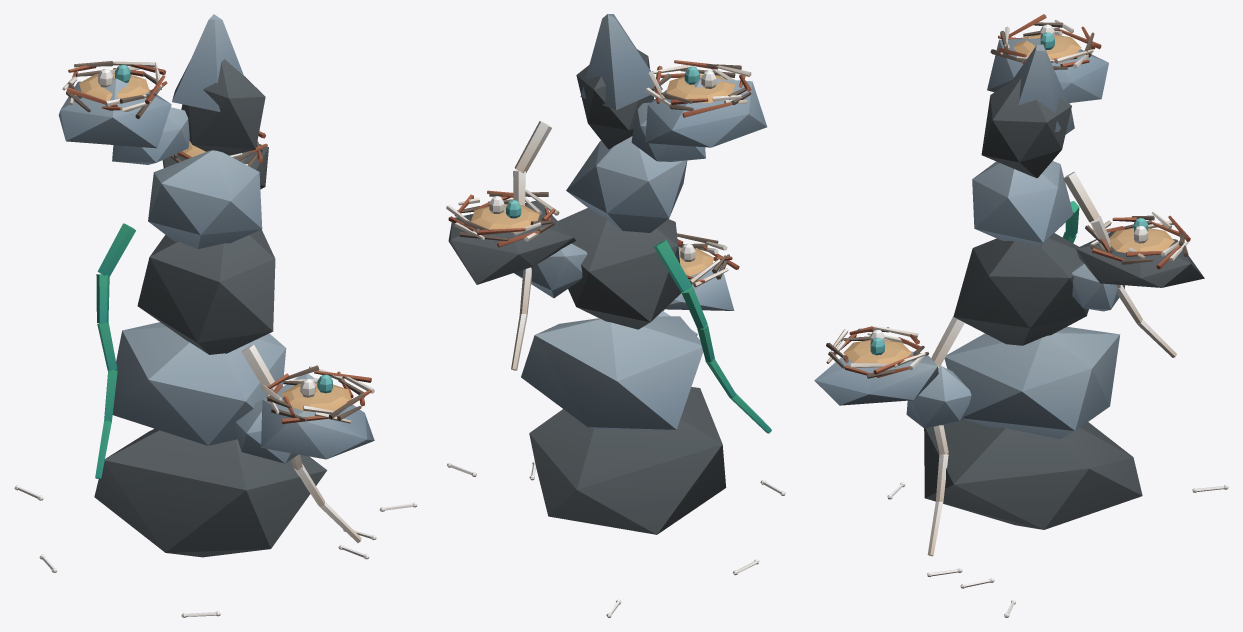
File: serpent_roost.glb
The picture shows the model from 3 angles, left to right: view 1: azimuth 30°, elevation 25°; view 2: azimuth 150°, elevation 25°; view 3: azimuth 270°, elevation 25°; orthographic projection. The views are drawn at different scales.
Visible parts, largest first — view 1: serpent_roost; view 2: serpent_roost; view 3: serpent_roost.
Boxes of the visible parts, box(x1,y1,x2,y2) form: serpent_roost: box(14, 14, 417, 617); serpent_roost: box(446, 14, 785, 617); serpent_roost: box(814, 14, 1228, 617).
Size of the model in its own units: 7.01 by 10.29 by 7.84.
Materials: 1 (1 with a texture image).
